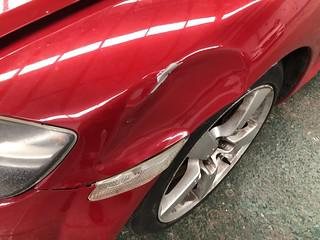fender-dent: (77, 0, 277, 153)
